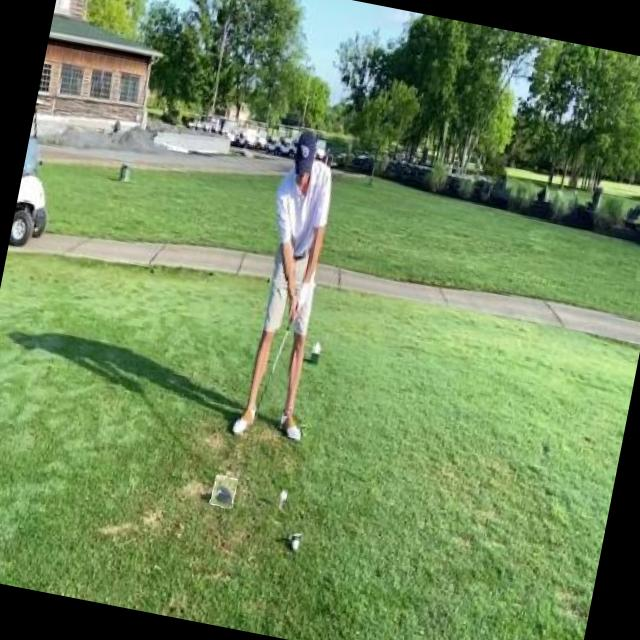club head: (210, 475, 238, 509)
